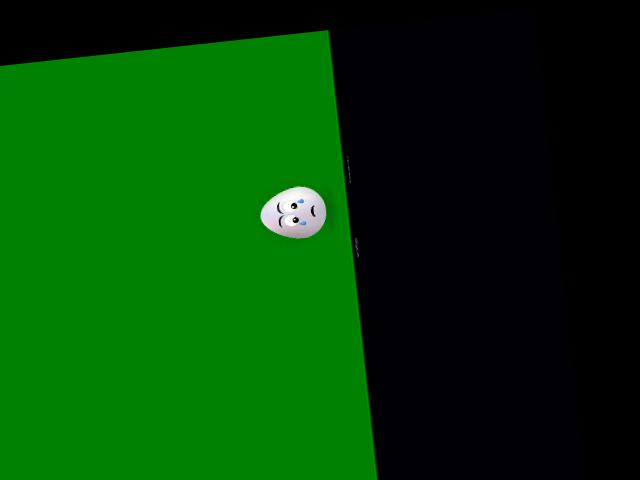egg: (258, 183, 328, 242)
